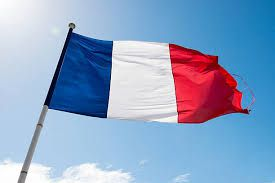French Flag: (48, 32, 242, 122)
